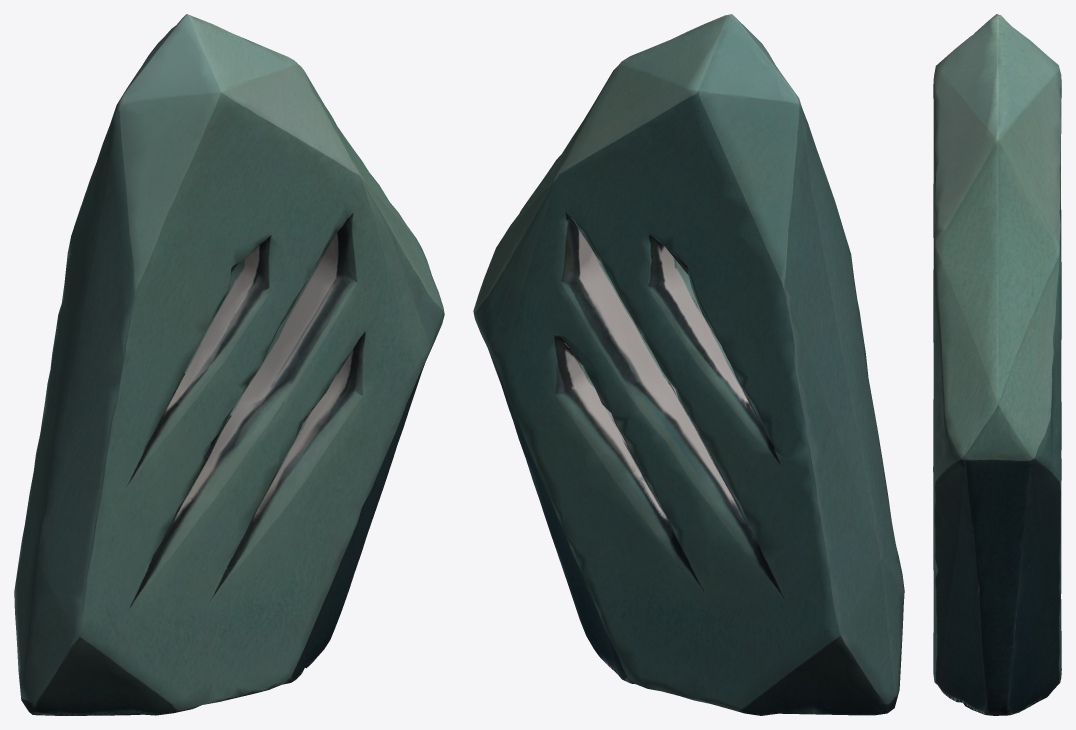
Rendered from FastRune_5000.fbx.
3 views of the same model, side by side, from view 1: azimuth 30°, elevation 25°; view 2: azimuth 150°, elevation 25°; view 3: azimuth 270°, elevation 25° (orthographic). The views are drawn at different scales.
Parts seen in each view (by area): view 1: texture_mapping; view 2: texture_mapping; view 3: texture_mapping.
Boxes of the visible parts, <box> form: texture_mapping: <box>14,14,444,715</box>; texture_mapping: <box>473,14,904,715</box>; texture_mapping: <box>933,14,1061,715</box>.
Size of the model in its own units: 0.6305 by 0.1807 by 1.
Materials: 1 (1 with a texture image).
